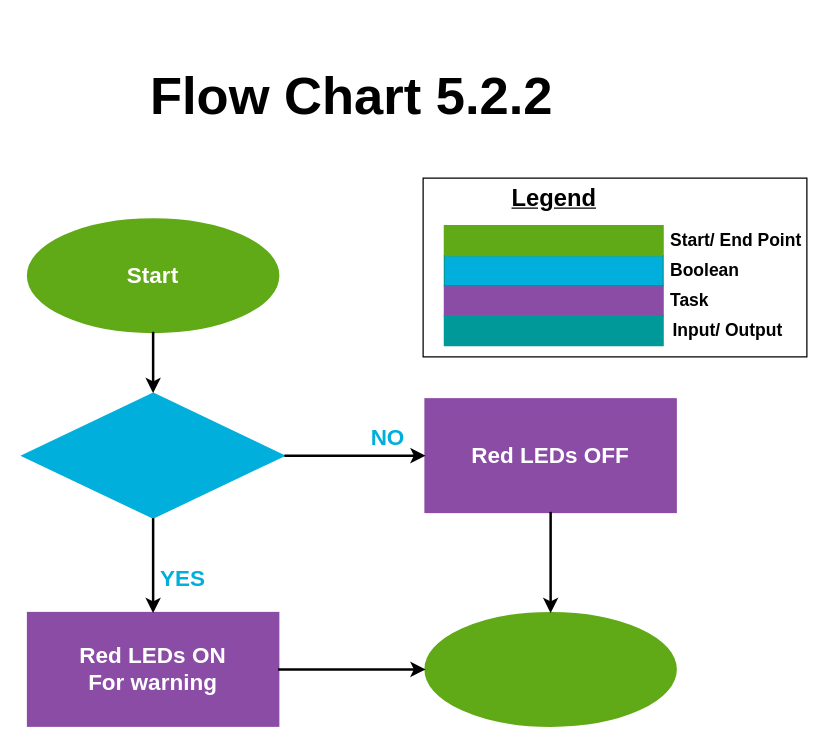
This 829x748 diagram has some shape labels left out. The shapes that lost their labels are listed below. From the top down, each one's centre as x and y in pixels, then its label:
At pixel 152 455: "Is the object in blind spot".
At pixel 550 668: "End".
